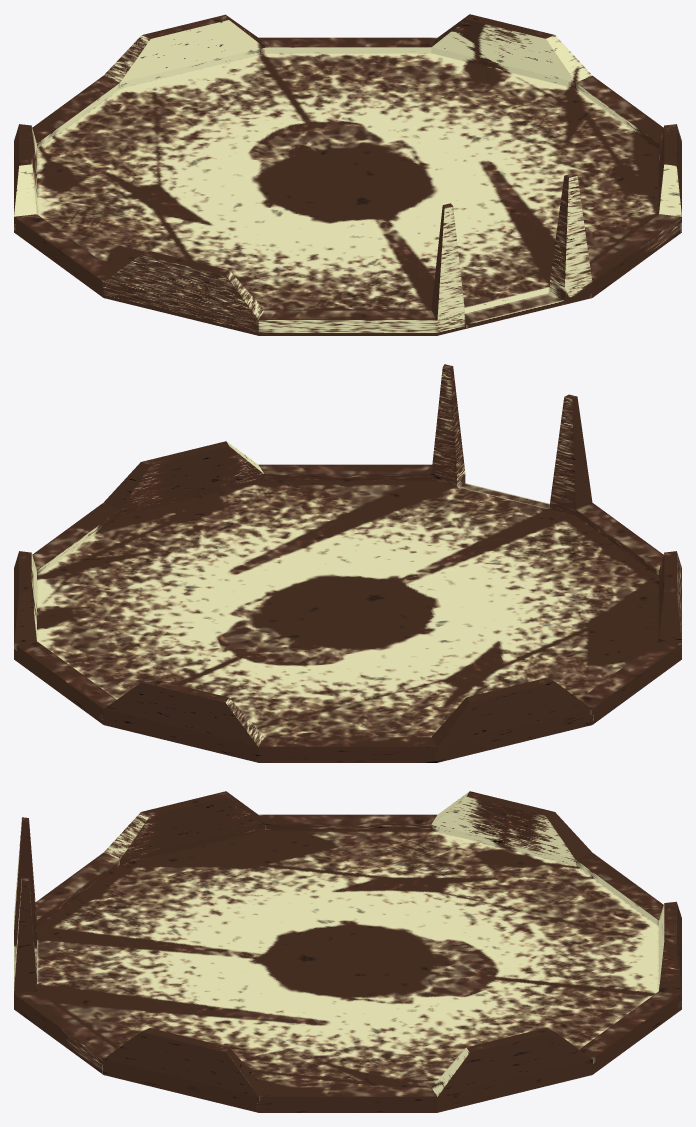
The model's file is Machine_Base.glb.
The picture shows the model from 3 angles, top to bottom: view 1: azimuth 30°, elevation 25°; view 2: azimuth 150°, elevation 25°; view 3: azimuth 270°, elevation 25°; orthographic projection.
Parts seen in each view (by area): view 1: MachineBase; view 2: MachineBase; view 3: MachineBase.
Part boxes in pixels (x1=…): MachineBase: x1=14, y1=14, x2=681, y2=335; MachineBase: x1=14, y1=364, x2=681, y2=762; MachineBase: x1=14, y1=791, x2=681, y2=1112.
Bounding box in the file's own units: 121 × 24.43 × 121.
Materials: 1 (1 with a texture image).
